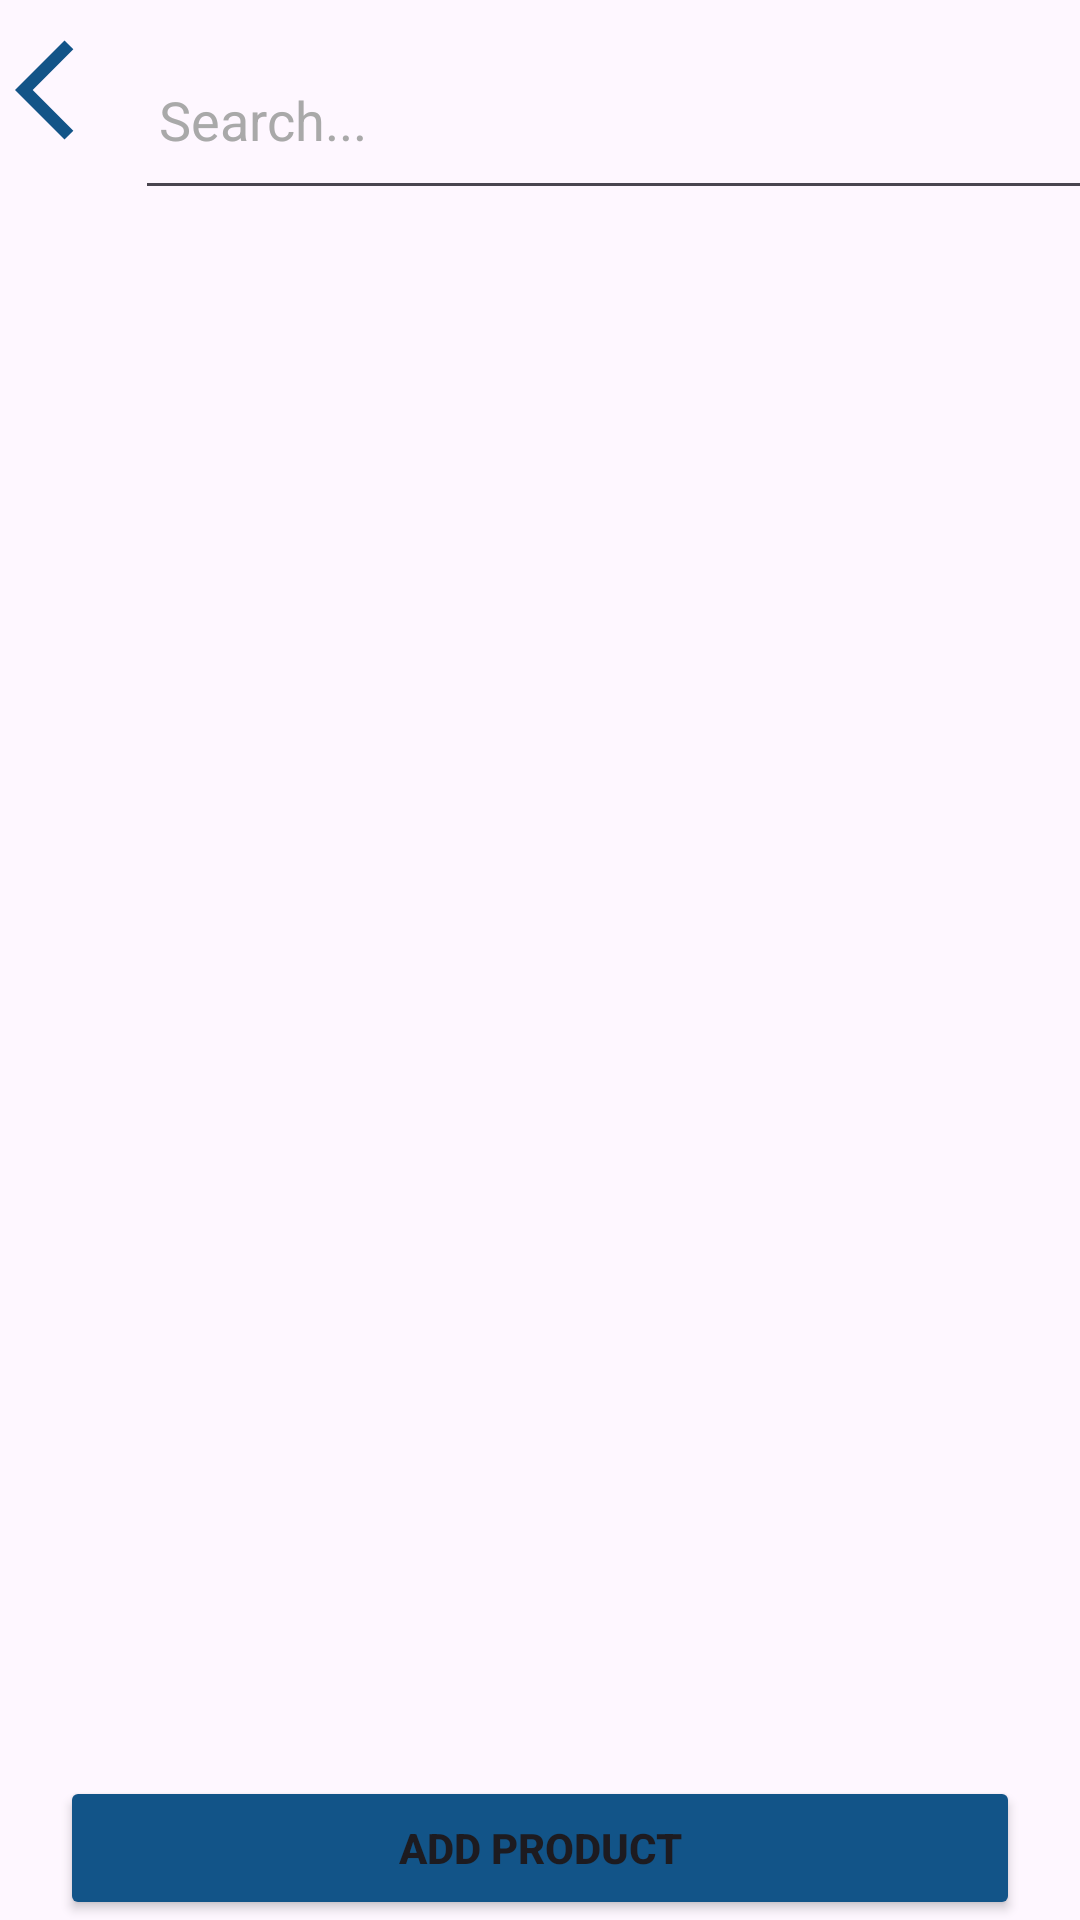

Icon bounding boxes for this 1080*1920 phone screenshot, format (x1, y1, x2, y2):
arrow back: (15, 40, 74, 140)
